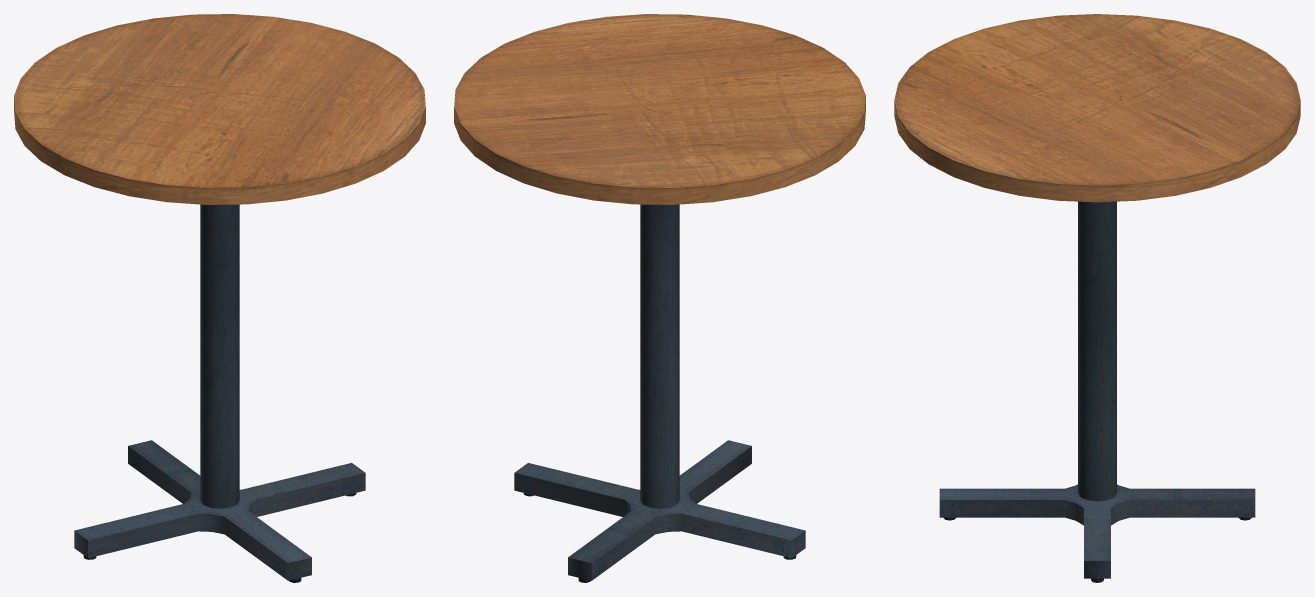
The model's file is table.gltf.
The picture shows the model from 3 angles, left to right: view 1: azimuth 30°, elevation 25°; view 2: azimuth 150°, elevation 25°; view 3: azimuth 270°, elevation 25°; orthographic projection.
Visible parts, largest first — view 1: LPTable; view 2: LPTable; view 3: LPTable.
Part boxes in pixels (x1,y1,x2,y2): LPTable: (14,14,425,582); LPTable: (454,14,865,582); LPTable: (894,14,1300,582).
Size of the model in its own units: 44 by 49.95 by 44.
Materials: 1 (1 with a texture image).
